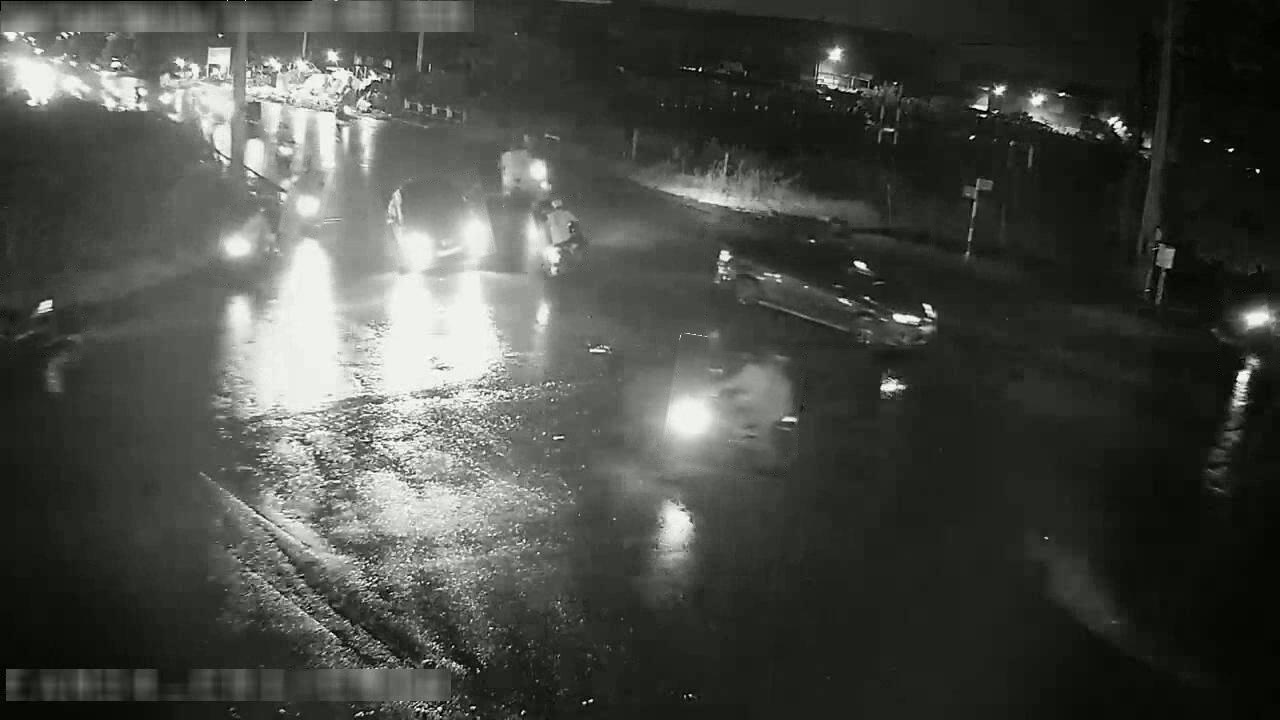Car: (714, 235, 937, 351), (386, 176, 495, 273)
Motorcyclist: (661, 333, 800, 473), (0, 282, 79, 363), (1212, 294, 1279, 367), (217, 202, 277, 283), (535, 197, 587, 275), (283, 166, 327, 236), (500, 145, 549, 203), (271, 119, 302, 168)
